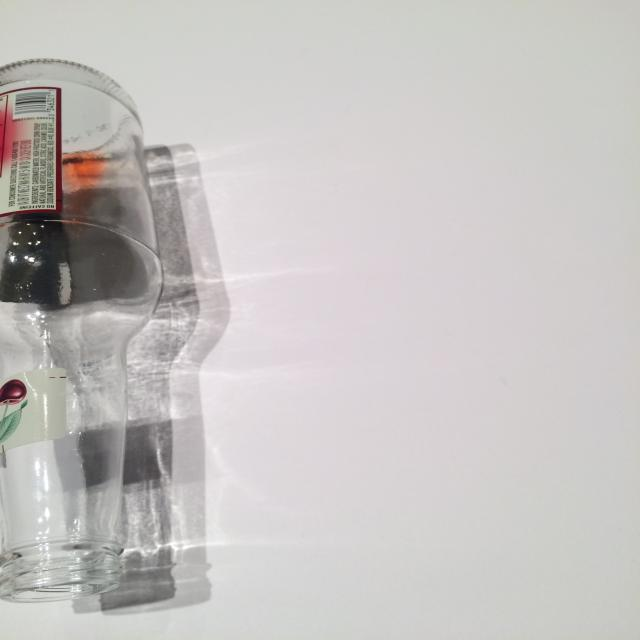glass: (1, 58, 164, 604)
